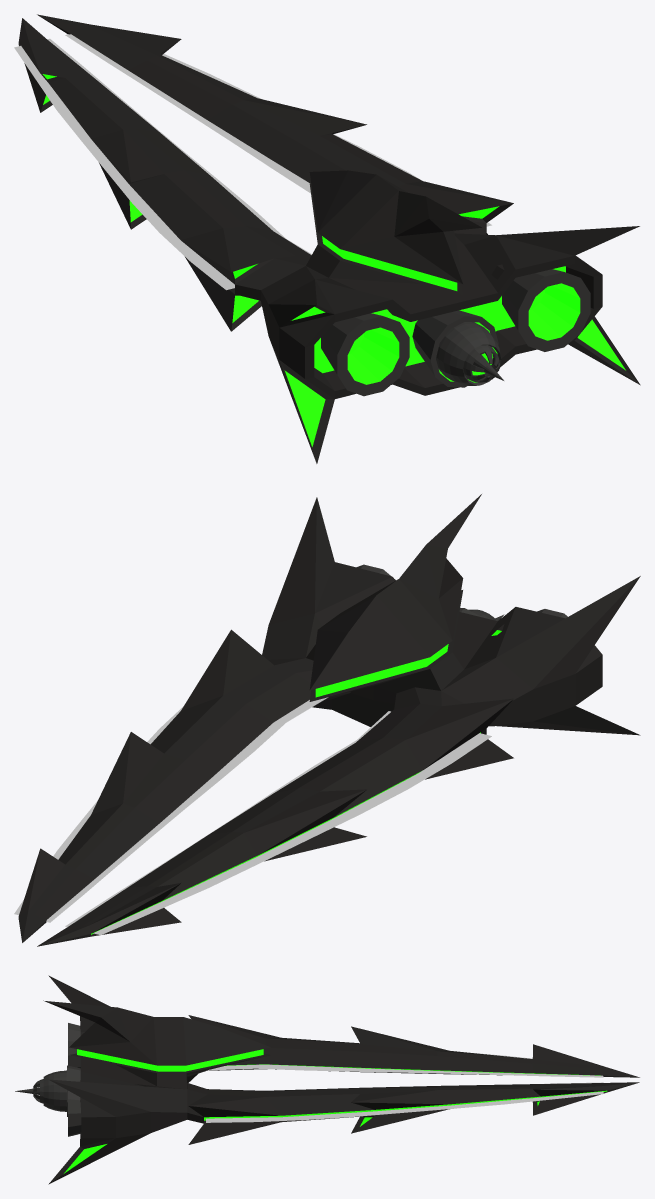
The model's file is EdgeJavelin.fbx.
The picture shows the model from 3 angles, top to bottom: view 1: azimuth 30°, elevation 25°; view 2: azimuth 150°, elevation 25°; view 3: azimuth 270°, elevation 25°; orthographic projection. The views are drawn at different scales.
Parts seen in each view (by area): view 1: Javelin, Glow, Turbine; view 2: Javelin, Glow; view 3: Javelin, Glow.
Boxes of the visible parts, left/top/right/bottom form: Javelin: left=18, top=14, right=640, bottom=463; Glow: left=14, top=34, right=491, bottom=290; Turbine: left=463, top=345, right=499, bottom=382; Javelin: left=18, top=494, right=640, bottom=946; Glow: left=14, top=697, right=491, bottom=935; Javelin: left=15, top=975, right=639, bottom=1184; Glow: left=206, top=1052, right=603, bottom=1122.
Bounding box in the file's own units: 417 × 246 × 1061.
